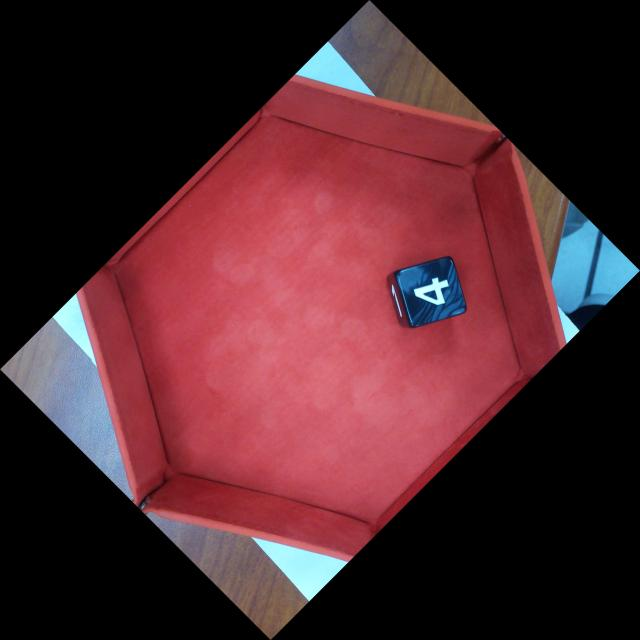dice: (395, 257, 466, 328)
